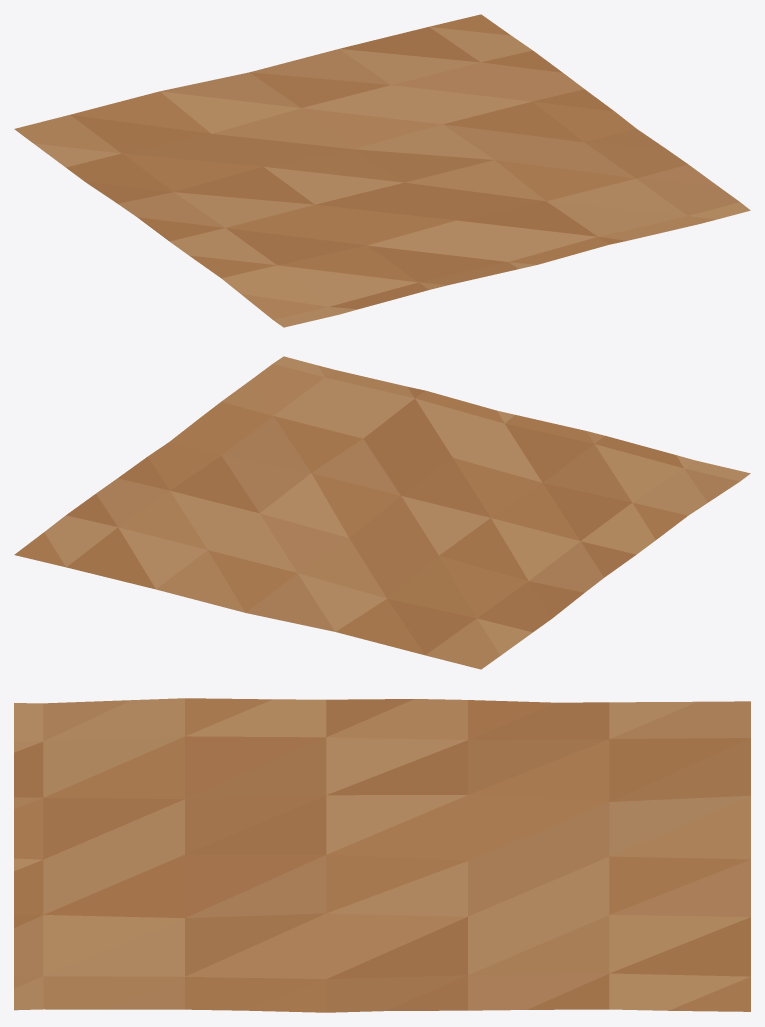
3 views of the same model, one above another, from view 1: azimuth 30°, elevation 25°; view 2: azimuth 150°, elevation 25°; view 3: azimuth 270°, elevation 25° (orthographic). The views are drawn at different scales.
Parts seen in each view (by area): view 1: baked; view 2: baked; view 3: baked.
Part boxes in pixels (x1,y1,x2,y2): baked: (14,14,750,327); baked: (14,356,750,669); baked: (14,698,750,1012).
Size of the model in its own units: 62.5 by 0.7598 by 62.5.
